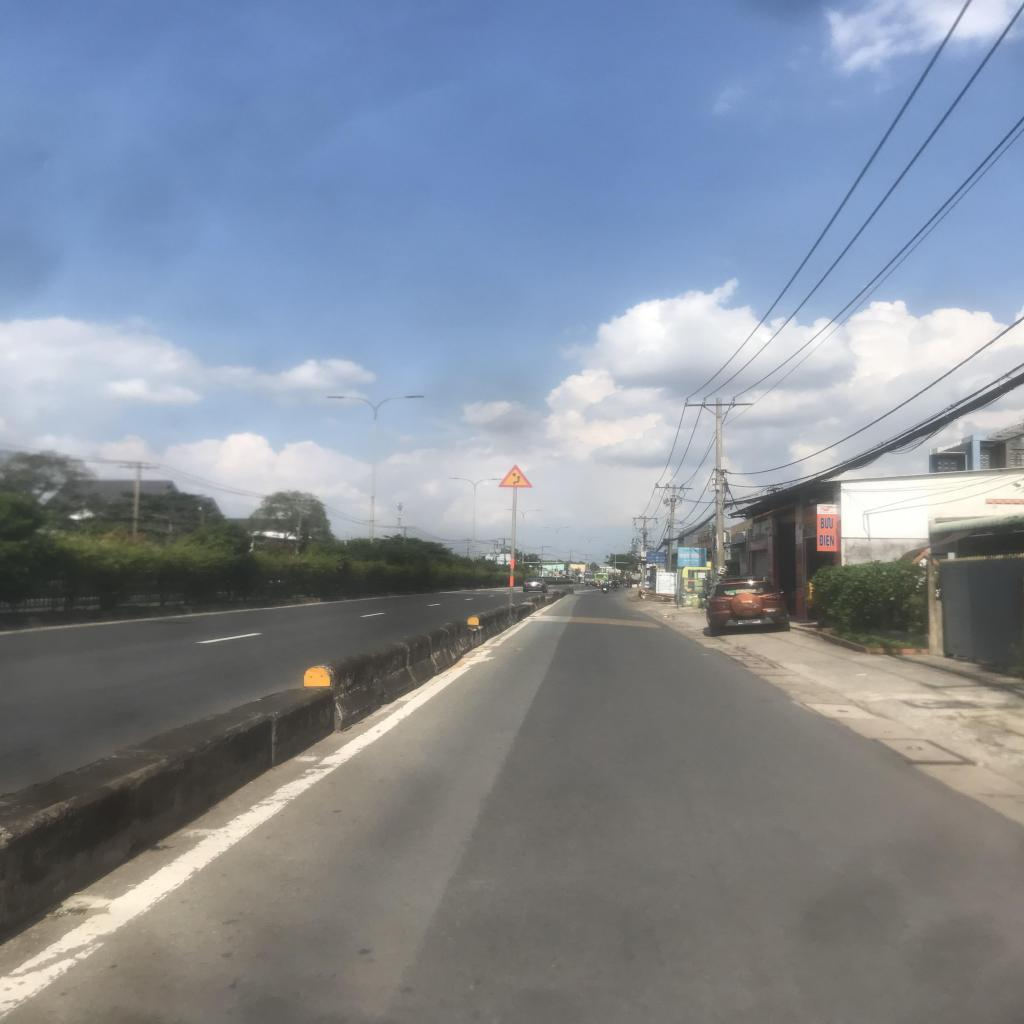cam_xe_di_nguoc_chieu: (587, 568, 591, 572)
huong_phai_di_vuot_chuong_ngai_vat_phai: (587, 572, 592, 575)
khac: (497, 465, 534, 488)
